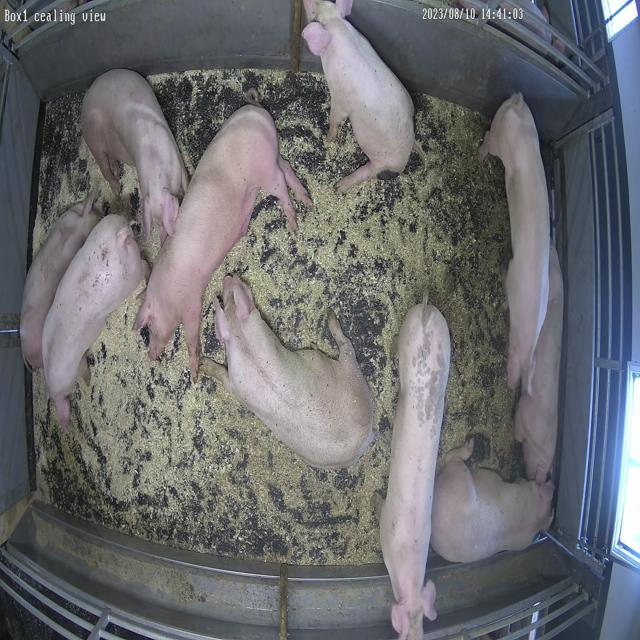Dirt: (419, 97, 525, 480)
Pig: (134, 104, 313, 378), (215, 277, 373, 468), (381, 304, 452, 640), (42, 214, 147, 430), (303, 0, 416, 192), (481, 93, 552, 391), (81, 69, 188, 236), (432, 442, 555, 564), (19, 195, 99, 370), (515, 246, 565, 484)
